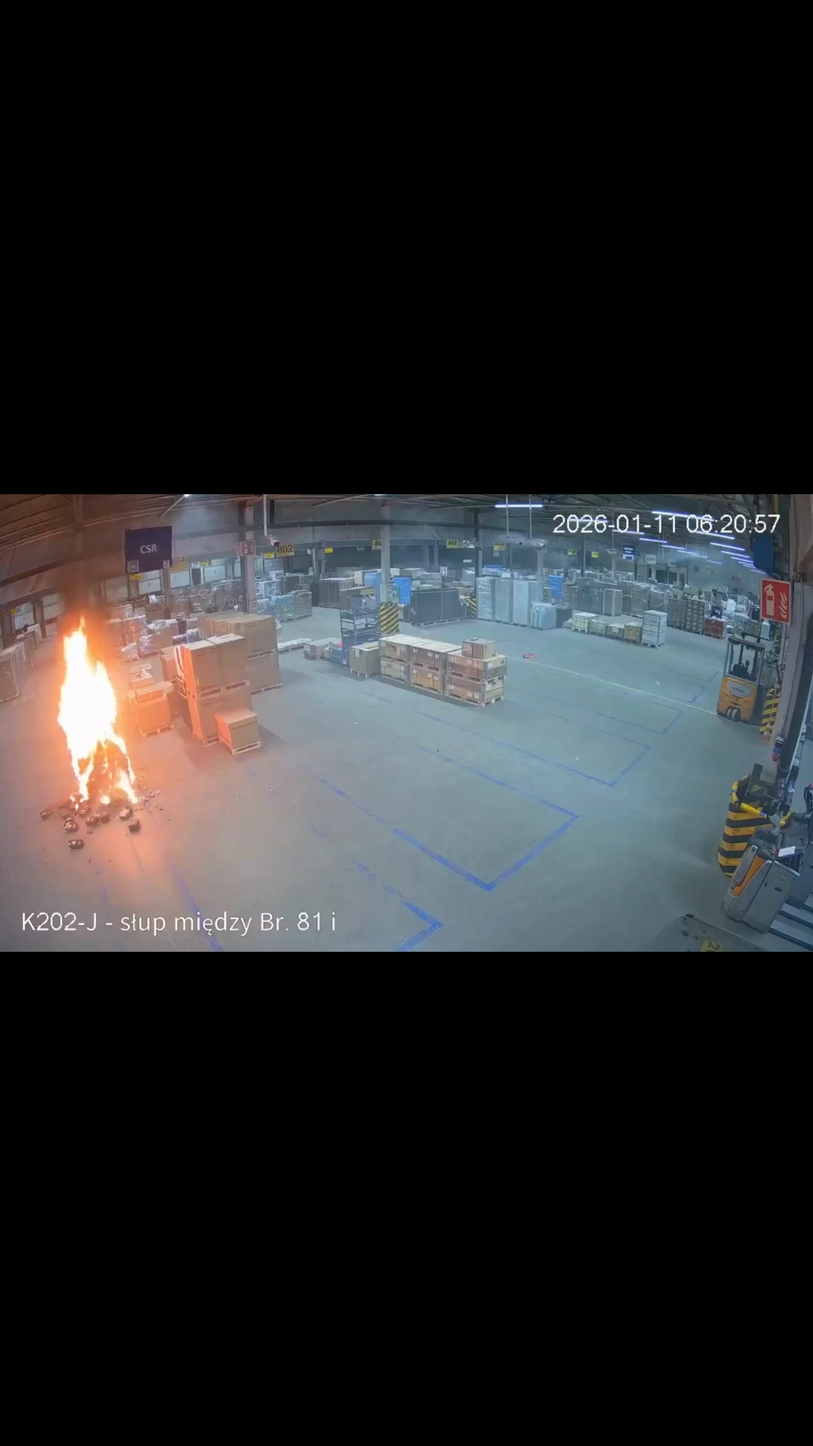fire: (28, 604, 166, 845)
